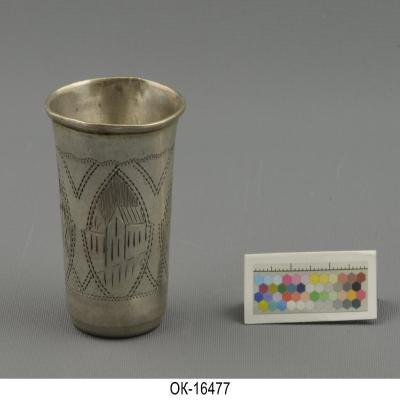dpi: (44, 77, 186, 341)
